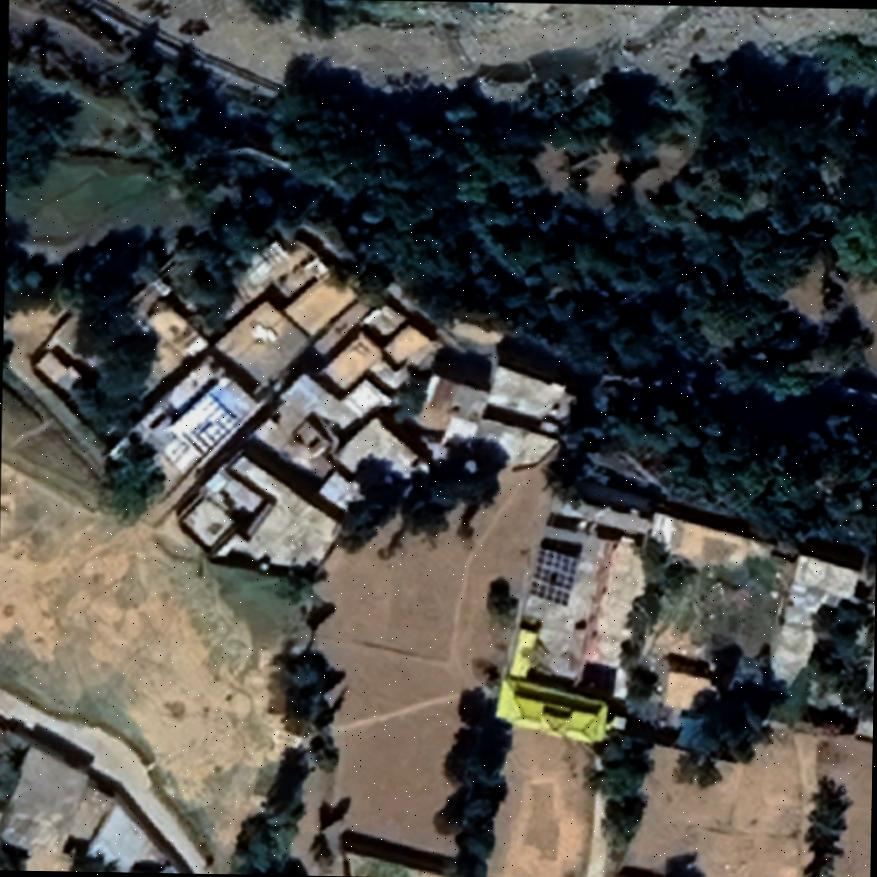Solarpanel: (171, 390, 240, 461), (526, 544, 580, 608)
